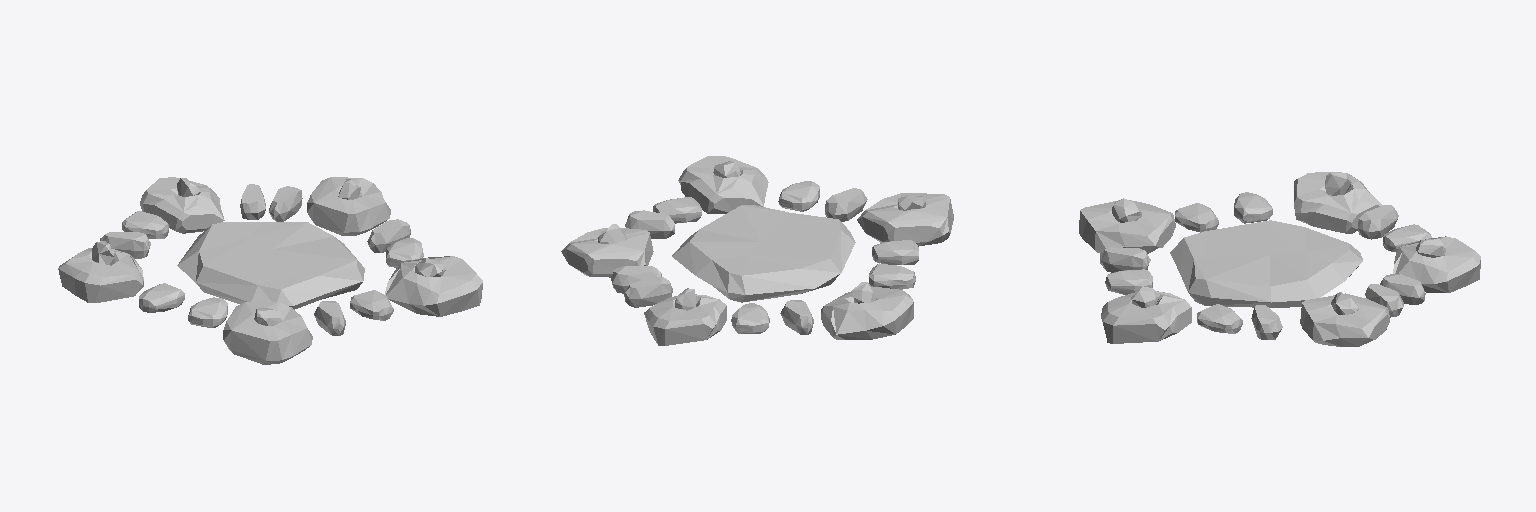
The model's file is TeleportPad.obj.
3 views of the same model, side by side, from view 1: azimuth 30°, elevation 25°; view 2: azimuth 150°, elevation 25°; view 3: azimuth 270°, elevation 25° (orthographic).
Parts seen in each view (by area): view 1: Object.13, Object.2, Object.3, Object.5, Object.6, Object.4, Object.14, Object.11, Object.15, Object.20, Object.16, Object.19 (+4 smaller); view 2: Object.13, Object.6, Object.3, Object.2, Object.4, Object.5, Object.18, Object.15, Object.12, Object.20, Object.14, Object.11 (+4 smaller); view 3: Object.13, Object.3, Object.2, Object.6, Object.5, Object.4, Object.12, Object.16, Object.21, Object.14, Object.15, Object.11 (+4 smaller).
Part boxes in pixels (left/top/right/bottom): Object.13: left=177, top=222, right=364, bottom=309; Object.2: left=385, top=256, right=482, bottom=316; Object.3: left=223, top=302, right=312, bottom=364; Object.5: left=307, top=177, right=390, bottom=235; Object.6: left=58, top=248, right=143, bottom=302; Object.4: left=140, top=177, right=224, bottom=233; Object.14: left=139, top=283, right=184, bottom=312; Object.11: left=350, top=290, right=393, bottom=320; Object.15: left=188, top=297, right=227, bottom=327; Object.20: left=367, top=219, right=410, bottom=252; Object.16: left=100, top=232, right=150, bottom=258; Object.19: left=122, top=211, right=168, bottom=238; Object.13: left=672, top=205, right=855, bottom=302; Object.6: left=821, top=287, right=913, bottom=339; Object.3: left=857, top=193, right=953, bottom=246; Object.2: left=678, top=156, right=768, bottom=213; Object.4: left=644, top=294, right=726, bottom=345; Object.5: left=561, top=228, right=653, bottom=277; Object.18: left=624, top=277, right=672, bottom=307; Object.15: left=872, top=240, right=918, bottom=264; Object.12: left=825, top=188, right=867, bottom=221; Object.20: left=625, top=210, right=674, bottom=238; Object.14: left=869, top=263, right=915, bottom=289; Object.11: left=778, top=181, right=819, bottom=211; Object.13: left=1170, top=220, right=1362, bottom=307; Object.3: left=1079, top=200, right=1175, bottom=253; Object.2: left=1101, top=291, right=1191, bottom=343; Object.6: left=1294, top=172, right=1382, bottom=233; Object.5: left=1300, top=293, right=1389, bottom=346; Object.4: left=1393, top=236, right=1480, bottom=292; Object.12: left=1100, top=247, right=1150, bottom=272; Object.16: left=1358, top=205, right=1398, bottom=239; Object.21: left=1197, top=304, right=1242, bottom=333; Object.14: left=1234, top=192, right=1272, bottom=223; Object.15: left=1175, top=203, right=1218, bottom=232; Object.11: left=1105, top=269, right=1152, bottom=294.
Size of the model in its own units: 0.9318 by 0.1301 by 1.